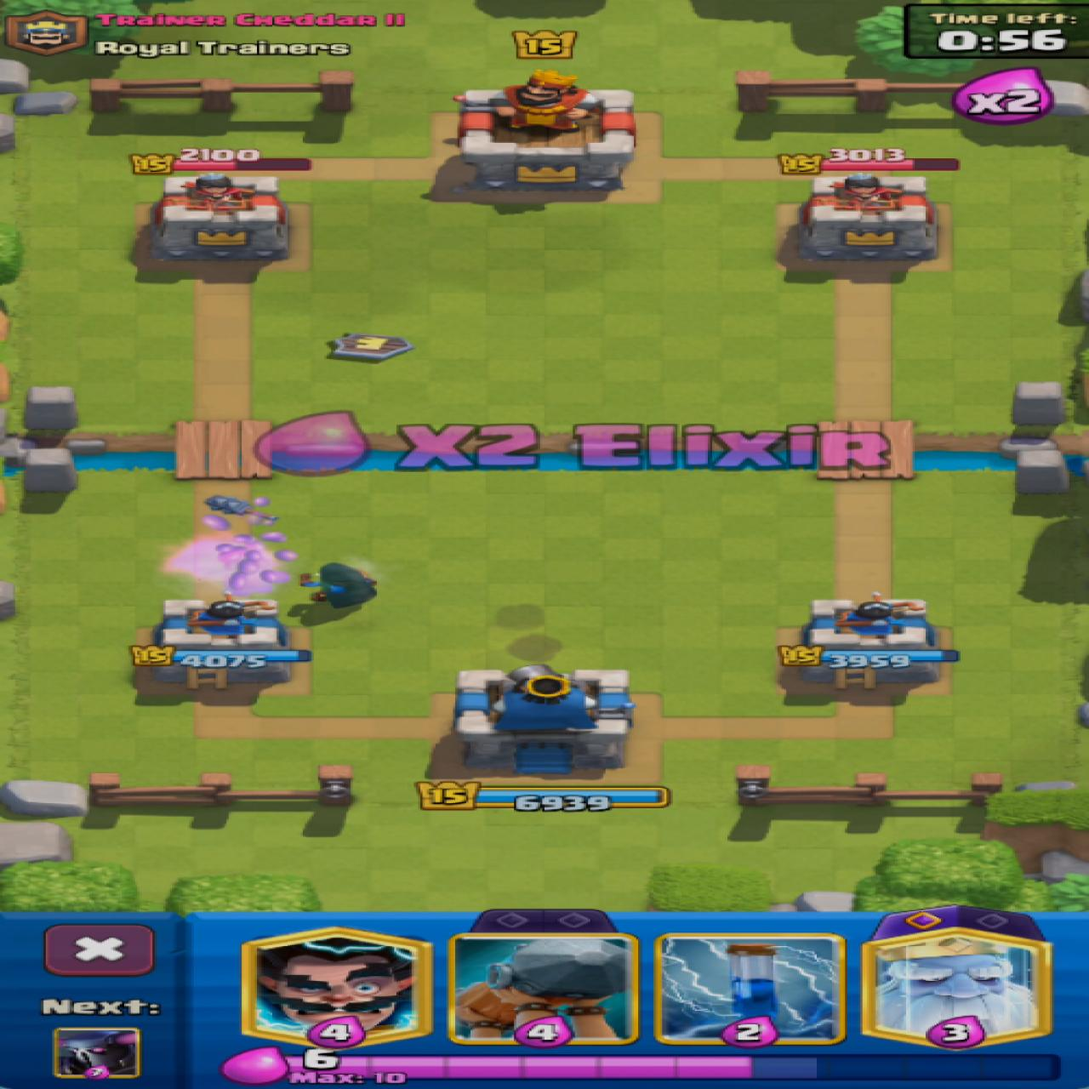Enemy-KingTower: (460, 70, 634, 192)
Enemy-PrincessTower: (799, 172, 934, 262), (150, 173, 287, 260)
